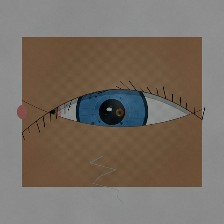foreign_body_visible: (111, 106, 128, 119)
